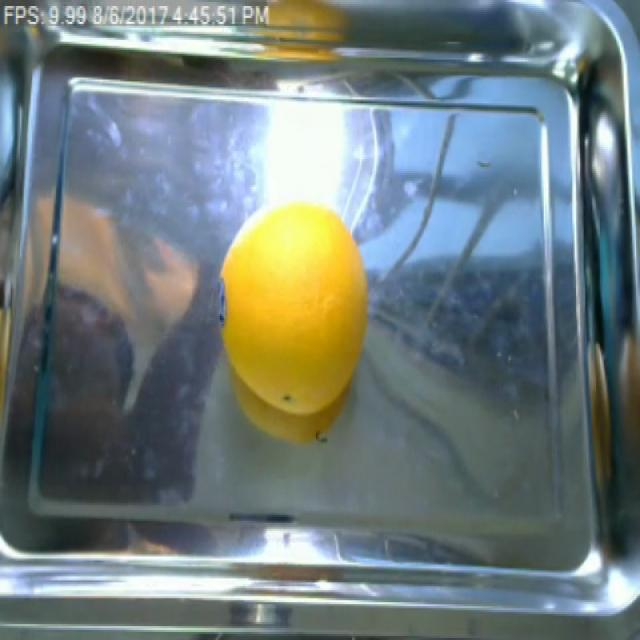Fruit: (213, 195, 375, 447), (256, 0, 356, 36)
